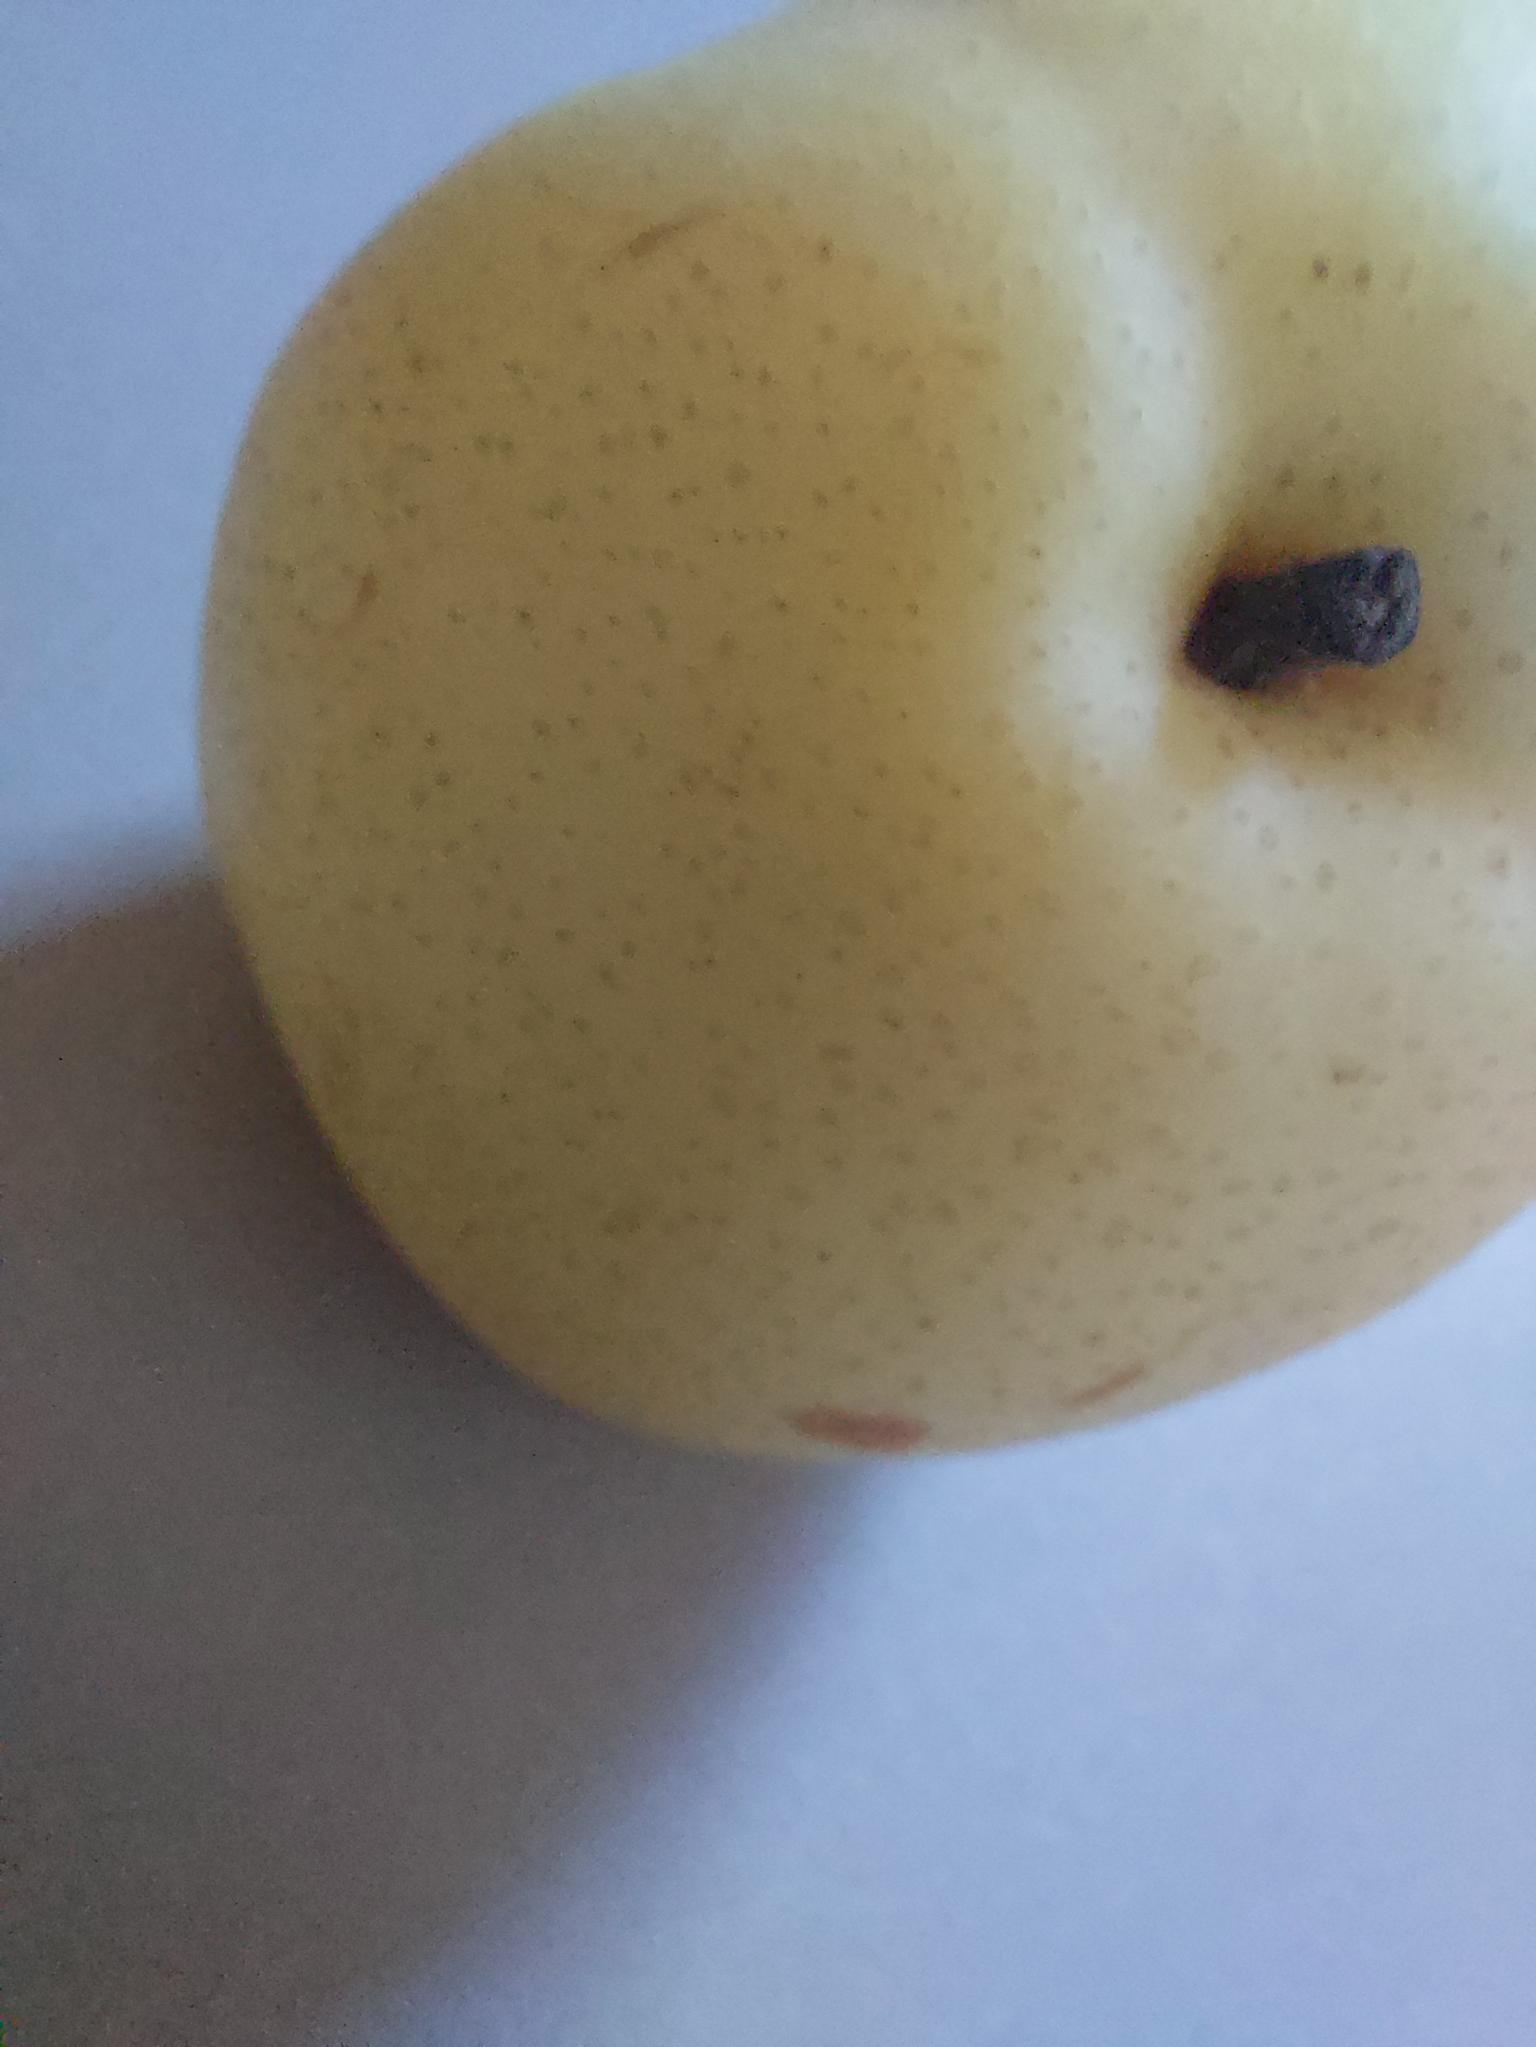Good Pear: (171, 5, 1536, 1515)
